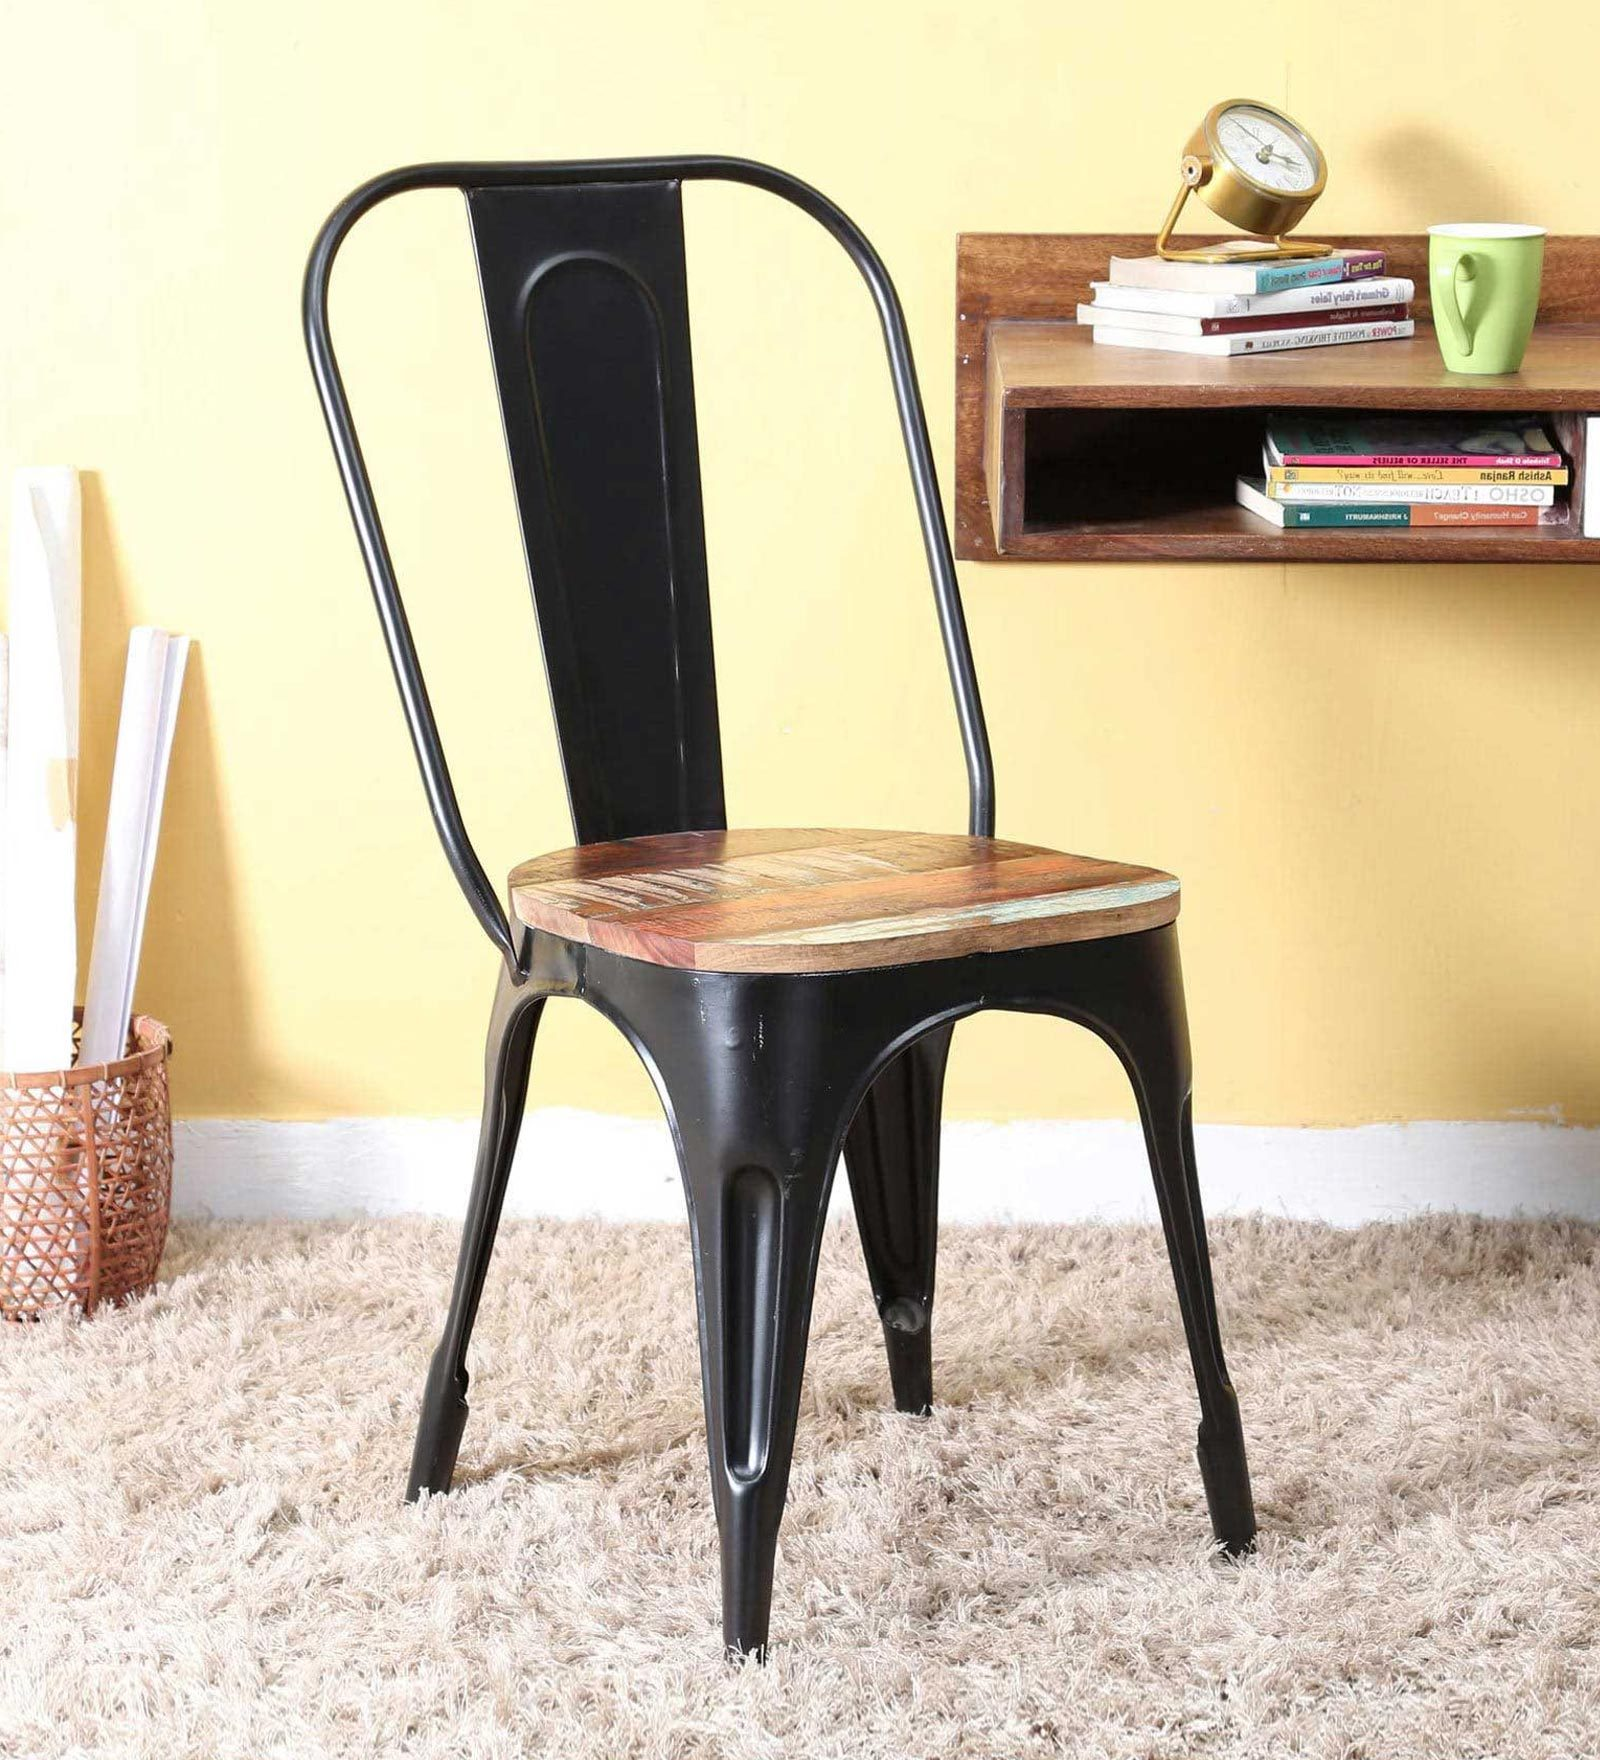Kumtor Metal Chair in Distress Black Color with Wooden Seat by Bohemiana: (267, 126, 1330, 1670)
